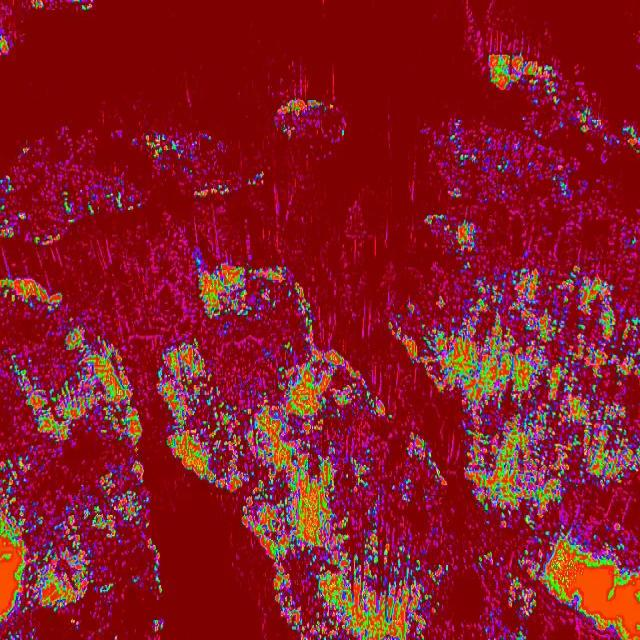fire: (157, 216, 640, 485), (0, 265, 159, 640), (241, 486, 640, 568), (271, 566, 637, 640), (438, 93, 640, 217), (0, 134, 140, 242), (138, 120, 268, 200), (269, 89, 352, 151), (478, 43, 566, 89), (0, 0, 22, 61)
